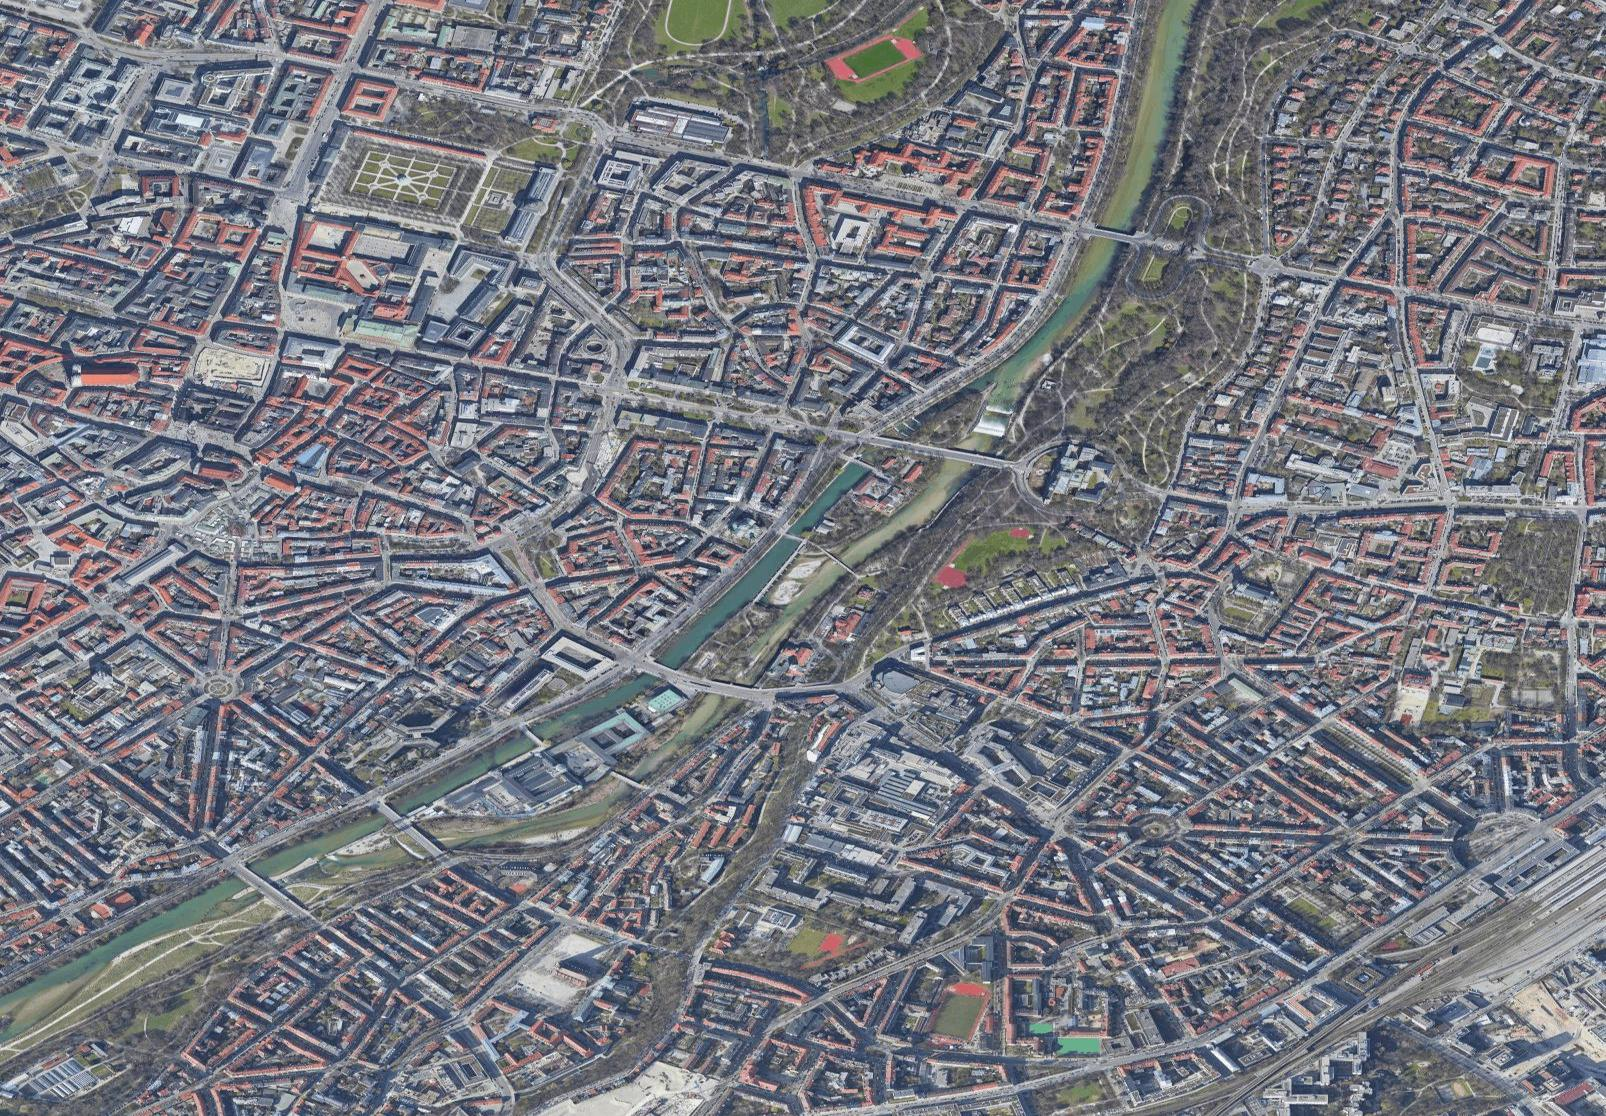bridge: (871, 429, 1006, 473), (229, 861, 278, 895), (364, 794, 412, 828), (635, 652, 683, 686), (1086, 223, 1126, 243), (779, 525, 812, 548), (846, 454, 879, 477)
